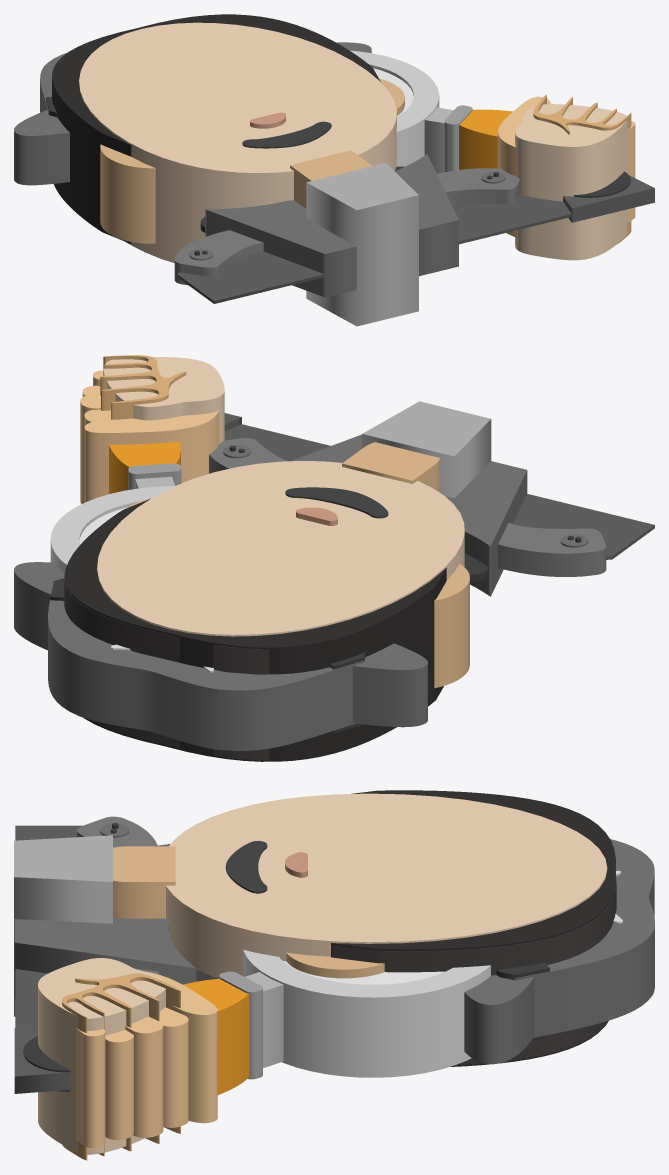
Rendered from emoji_u1f575_1f3fb_200d_2642.glb.
3 views of the same model, one above another, from view 1: azimuth 30°, elevation 25°; view 2: azimuth 150°, elevation 25°; view 3: azimuth 270°, elevation 25° (orthographic). The views are drawn at different scales.
Parts seen in each view (by area): view 1: emoji_u1f575_1f3fb_200d_2642; view 2: emoji_u1f575_1f3fb_200d_2642; view 3: emoji_u1f575_1f3fb_200d_2642.
Boxes of the visible parts, box(x1,y1,x2,y2) form: emoji_u1f575_1f3fb_200d_2642: box(14, 14, 654, 326); emoji_u1f575_1f3fb_200d_2642: box(14, 355, 654, 761); emoji_u1f575_1f3fb_200d_2642: box(14, 790, 654, 1160).
Size of the model in its own units: 0.0326 by 0.0082 by 0.0333.
